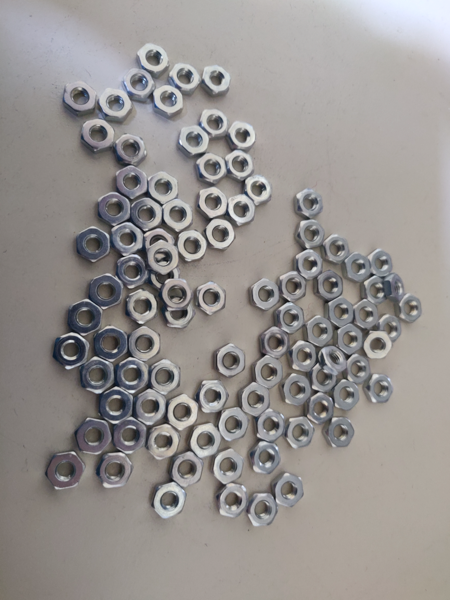nut: (46, 450, 86, 490), (107, 416, 147, 456), (77, 117, 115, 155), (71, 417, 110, 454), (52, 332, 91, 369), (116, 355, 152, 395), (127, 196, 166, 232), (95, 453, 133, 489), (149, 483, 187, 519), (146, 423, 181, 461), (98, 386, 133, 423), (151, 83, 186, 120), (172, 449, 204, 489), (67, 301, 103, 336), (112, 163, 148, 198), (167, 395, 201, 432), (78, 361, 114, 395), (63, 79, 97, 115), (190, 421, 222, 459), (145, 241, 179, 276), (214, 343, 247, 379), (201, 62, 233, 99), (151, 357, 181, 396), (193, 281, 227, 315), (279, 373, 312, 408), (77, 228, 109, 264), (97, 193, 133, 225), (161, 278, 193, 313), (361, 329, 396, 361), (137, 390, 168, 426), (124, 66, 155, 102), (250, 278, 281, 314), (115, 133, 148, 166), (101, 88, 133, 122), (112, 222, 143, 257), (219, 406, 250, 441), (139, 42, 170, 77), (96, 326, 126, 362), (177, 227, 207, 263), (215, 484, 247, 517), (259, 326, 291, 359), (275, 472, 305, 507), (305, 313, 335, 348), (333, 376, 363, 411), (88, 275, 120, 307), (177, 125, 210, 156), (287, 341, 320, 372), (199, 379, 229, 413), (214, 449, 244, 483), (171, 60, 201, 94), (207, 218, 236, 253), (227, 193, 256, 228), (249, 492, 277, 528), (243, 173, 274, 205), (239, 384, 269, 417), (313, 269, 343, 302), (279, 271, 308, 305), (126, 289, 154, 324), (199, 186, 227, 221), (254, 354, 282, 389), (130, 328, 161, 359), (257, 408, 284, 443), (324, 419, 355, 449), (294, 188, 324, 219), (350, 299, 380, 330), (197, 151, 226, 183), (250, 446, 282, 475), (118, 256, 146, 289), (164, 199, 193, 230), (306, 394, 335, 425), (145, 226, 173, 258), (346, 250, 372, 284), (163, 297, 192, 327), (294, 219, 323, 249), (376, 313, 405, 343), (150, 172, 178, 203), (323, 235, 351, 266), (320, 344, 348, 375), (201, 107, 228, 139), (287, 417, 314, 449), (398, 290, 424, 323), (149, 263, 177, 293), (328, 298, 356, 328), (339, 322, 365, 354), (312, 358, 337, 391), (346, 353, 372, 384), (369, 373, 393, 406), (361, 274, 389, 302), (298, 247, 322, 279), (279, 303, 305, 332), (231, 120, 258, 147), (371, 248, 395, 275), (232, 148, 254, 177)
